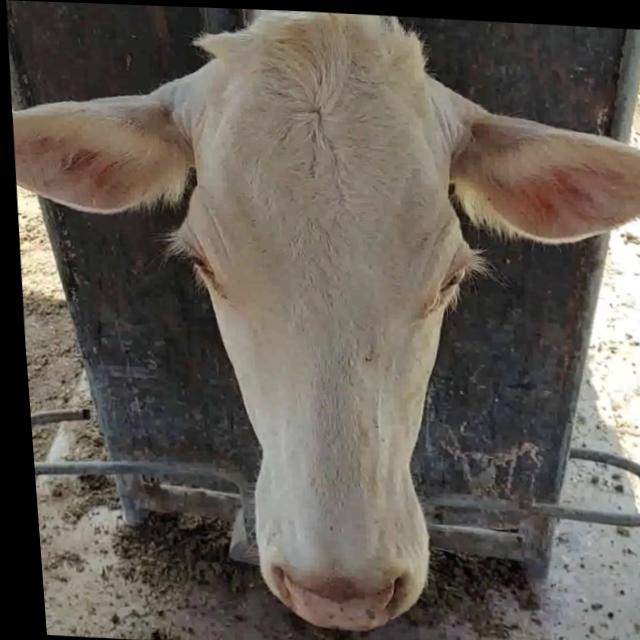cowFace: (154, 4, 497, 631)
